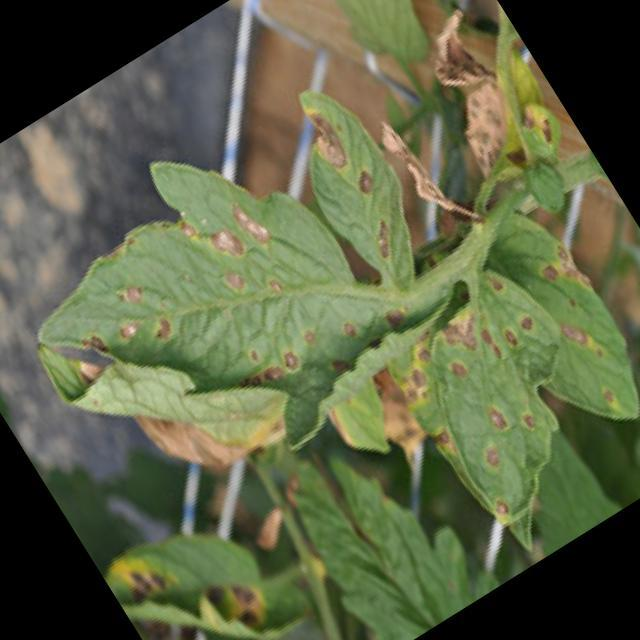Tomato Early blight leaf: (0, 99, 421, 540), (371, 254, 634, 536), (259, 65, 465, 320), (457, 201, 640, 455), (100, 496, 305, 640)
